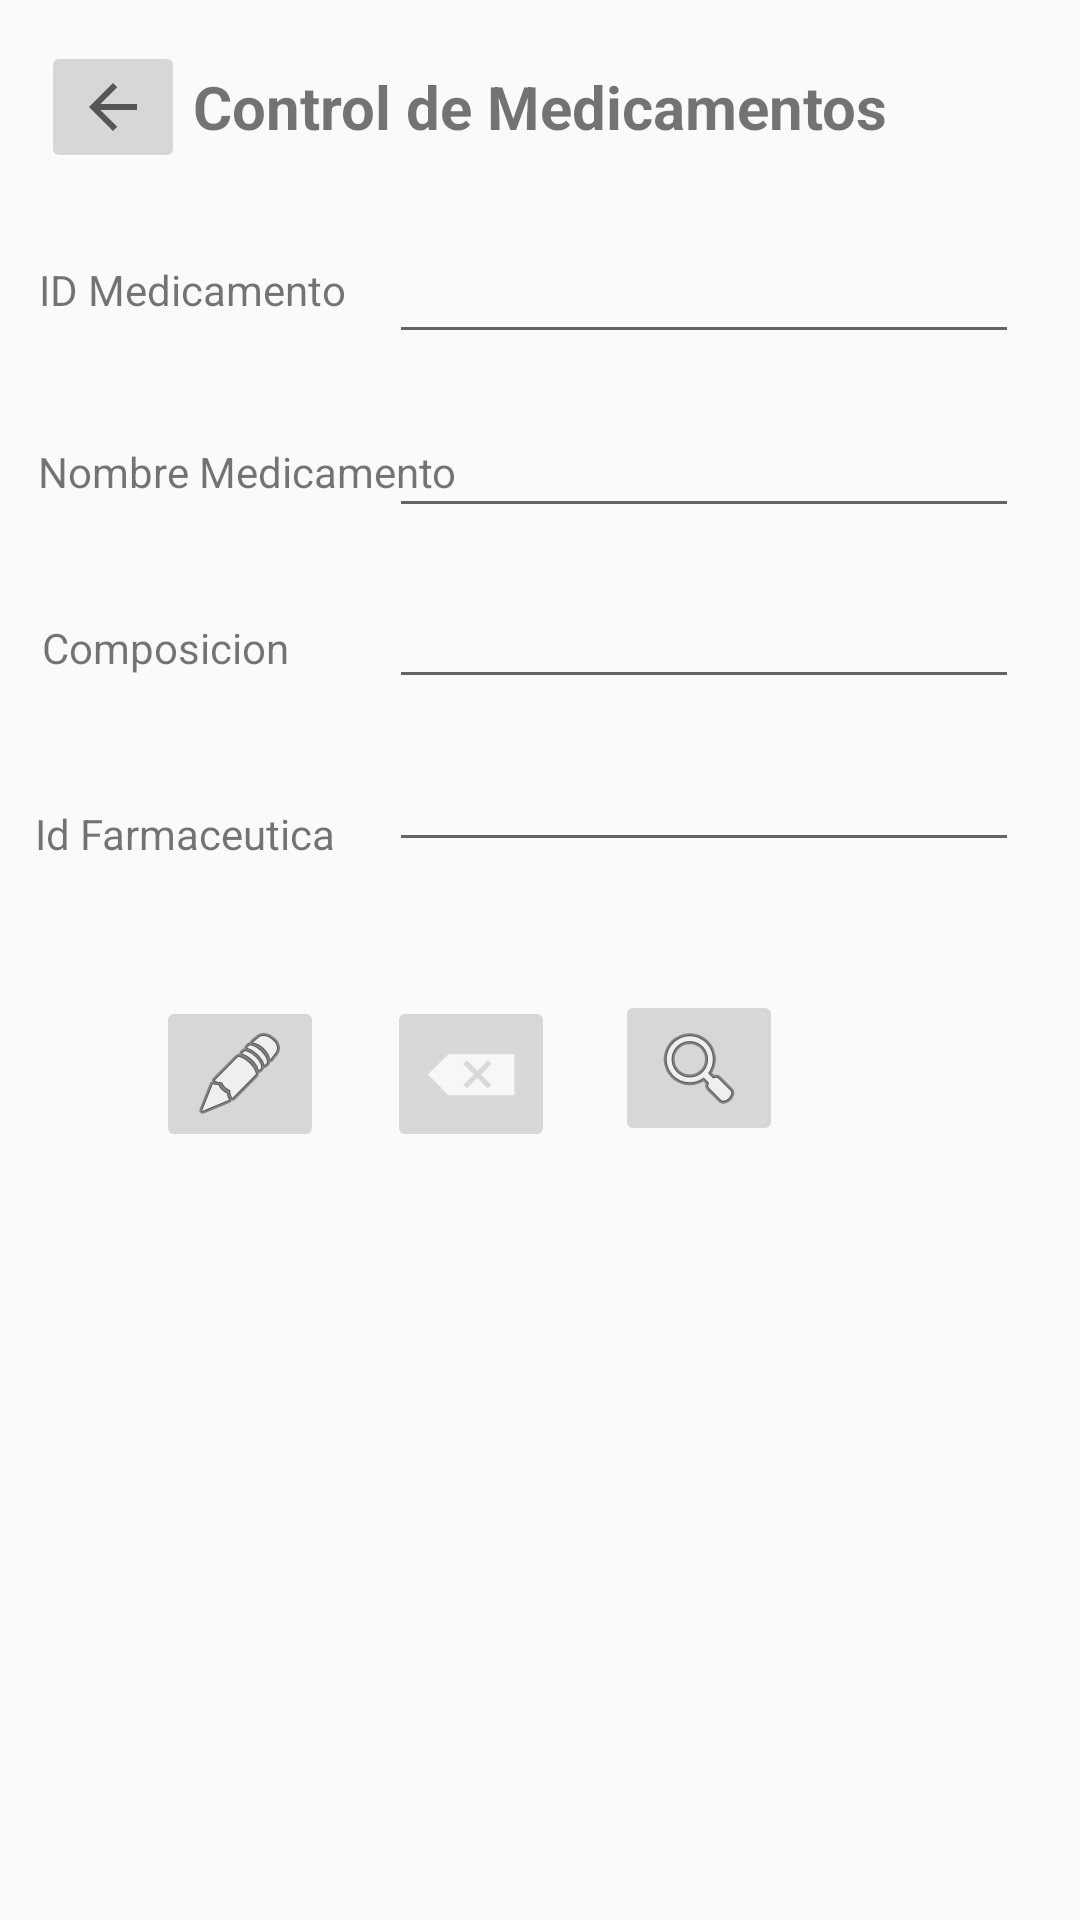

Icons on this 1080 x 1920 Android screen, each with the point to tap as (x=x, y=y):
delete: (x=471, y=1074)
edit: (x=240, y=1074)
search: (x=699, y=1068)
